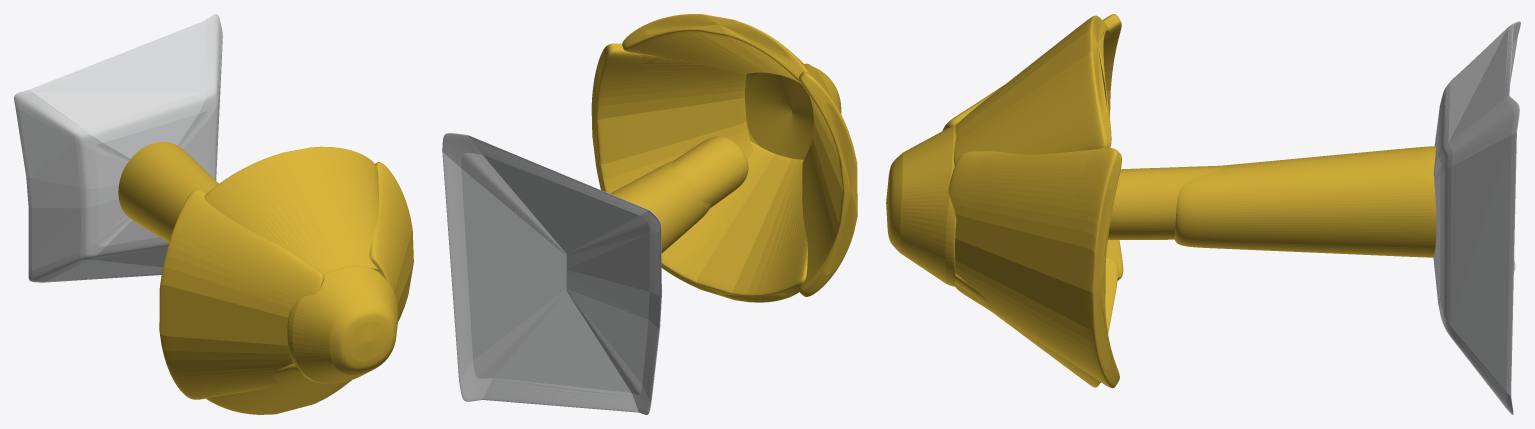
Rendered from lamp-input.glb.
3 views of the same model, side by side, from view 1: azimuth 30°, elevation 25°; view 2: azimuth 150°, elevation 25°; view 3: azimuth 270°, elevation 25° (orthographic). The views are drawn at different scales.
Visible parts, largest first — view 1: superquadric_4, superquadric_0, superquadric_2, superquadric_6, superquadric_5, superquadric_1, superquadric_3; view 2: superquadric_4, superquadric_1, superquadric_3, superquadric_0, superquadric_2, superquadric_6, superquadric_5, superquadric_7; view 3: superquadric_1, superquadric_4, superquadric_5, superquadric_2, superquadric_6, superquadric_7, superquadric_3, superquadric_0.
Boxes of the visible parts, left/top/right/bottom form: superquadric_4: left=14, top=14, right=222, bottom=282; superquadric_0: left=159, top=189, right=324, bottom=399; superquadric_2: left=204, top=146, right=378, bottom=274; superquadric_6: left=287, top=265, right=398, bottom=383; superquadric_5: left=118, top=142, right=218, bottom=242; superquadric_1: left=369, top=162, right=413, bottom=321; superquadric_3: left=206, top=364, right=351, bottom=414; superquadric_4: left=442, top=133, right=661, bottom=414; superquadric_1: left=591, top=43, right=752, bottom=193; superquadric_3: left=661, top=141, right=807, bottom=302; superquadric_0: left=799, top=63, right=857, bottom=296; superquadric_2: left=622, top=14, right=811, bottom=83; superquadric_6: left=745, top=66, right=841, bottom=159; superquadric_5: left=610, top=161, right=710, bottom=253; superquadric_7: left=671, top=136, right=748, bottom=208; superquadric_1: left=948, top=148, right=1121, bottom=388; superquadric_4: left=1433, top=21, right=1520, bottom=414; superquadric_5: left=1174, top=146, right=1436, bottom=257; superquadric_2: left=953, top=15, right=1111, bottom=165; superquadric_6: left=886, top=125, right=956, bottom=286; superquadric_7: left=1108, top=165, right=1223, bottom=239; superquadric_3: left=954, top=257, right=1118, bottom=387; superquadric_0: left=942, top=14, right=1123, bottom=280.
Size of the model in its own units: 0.5837 by 0.5796 by 1.
